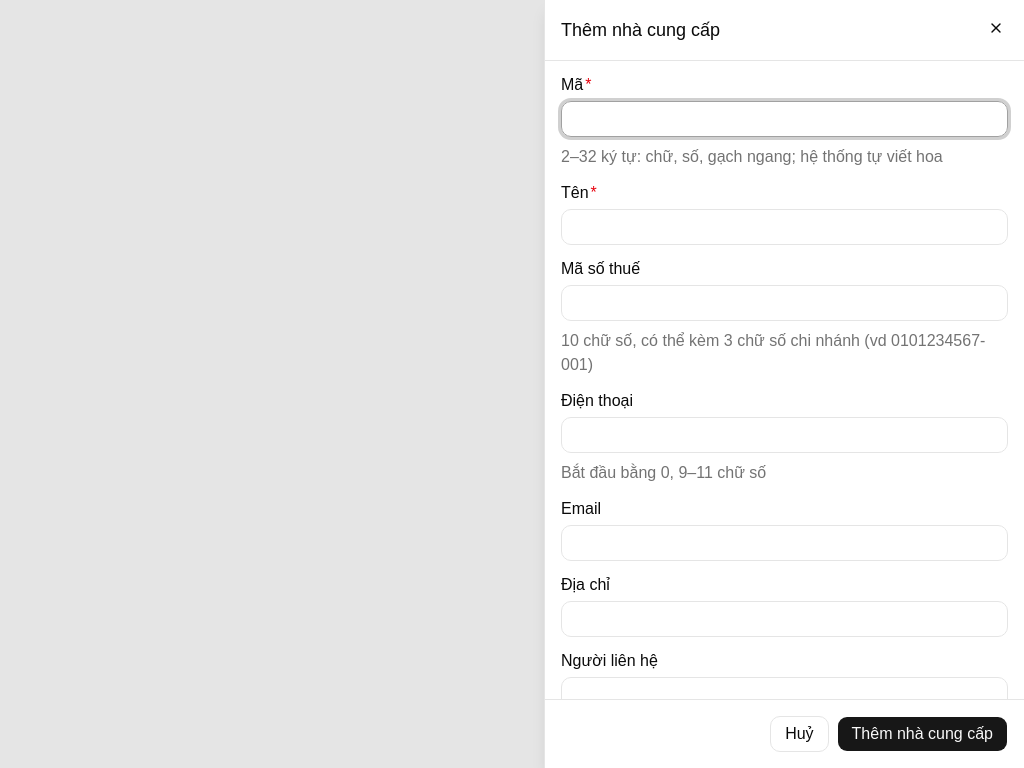
Scenario: SupplierFormSheet — tạo mới › đã gõ rồi bấm Huỷ → hỏi "Bỏ thay đổi chưa lưu?"
The width and height of the screenshot is (1024, 768).
Type "NCC" into the field labelled "Mã *" at (784, 119), box [561,101,1008,137]
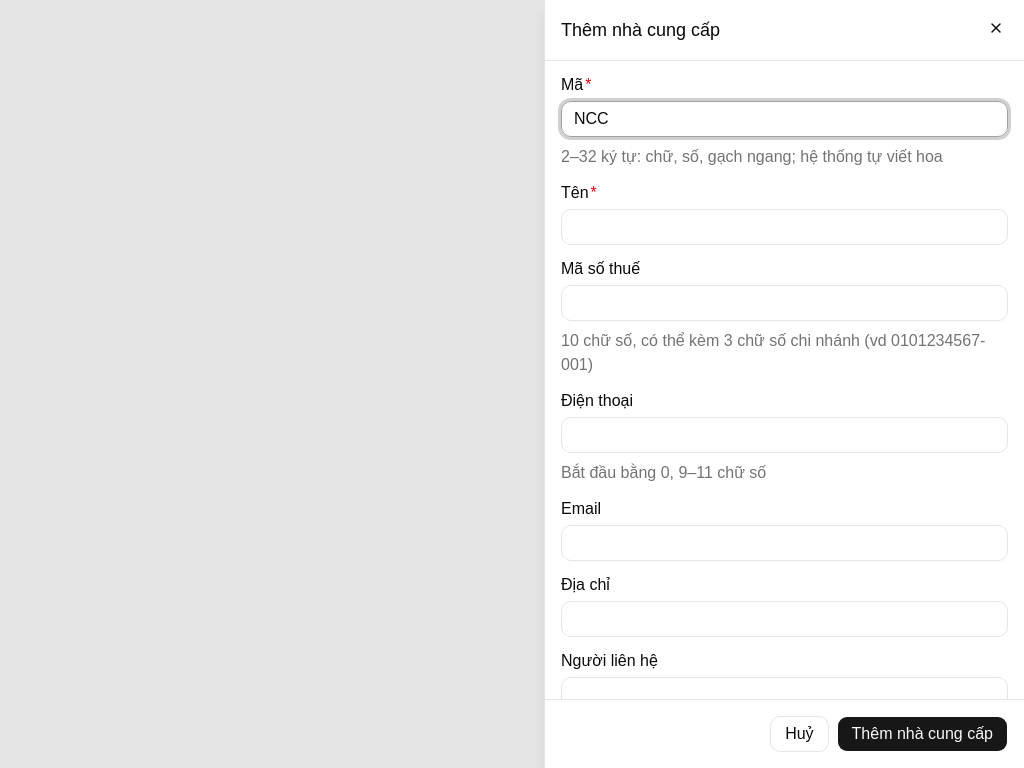
Click the button "Huỷ" at (799, 734), box [770,716,829,752]
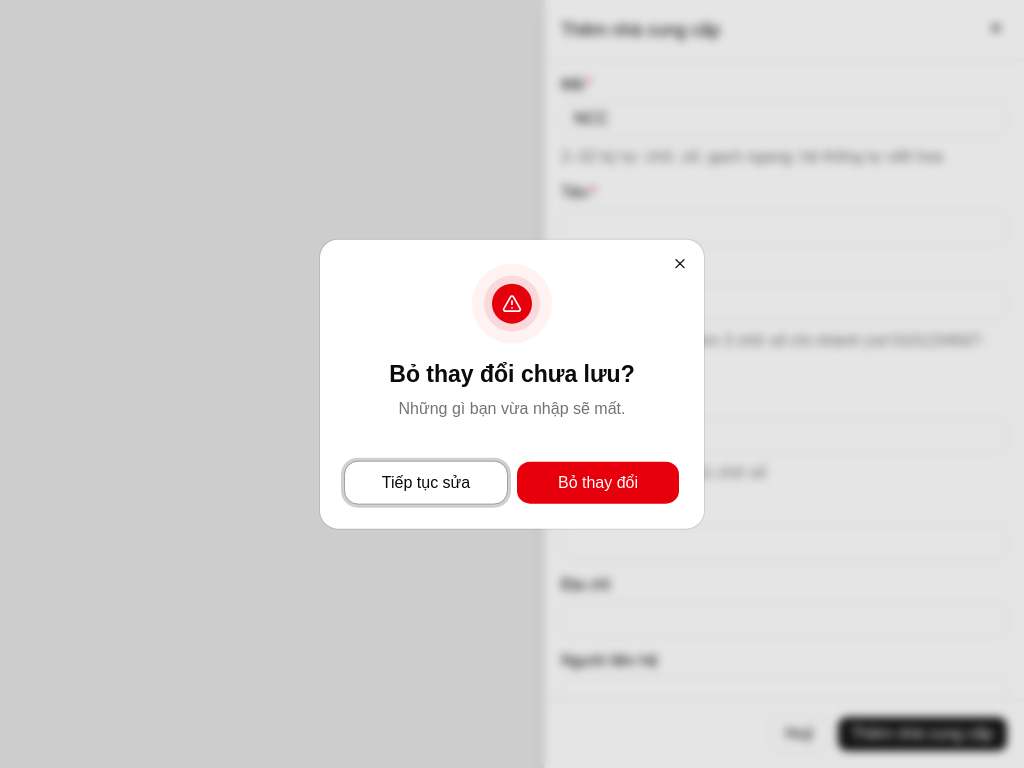
Expected: the dialog that starts with "Bỏ thay đổi chưa lưu?" is shown, [389,361,635,387]
